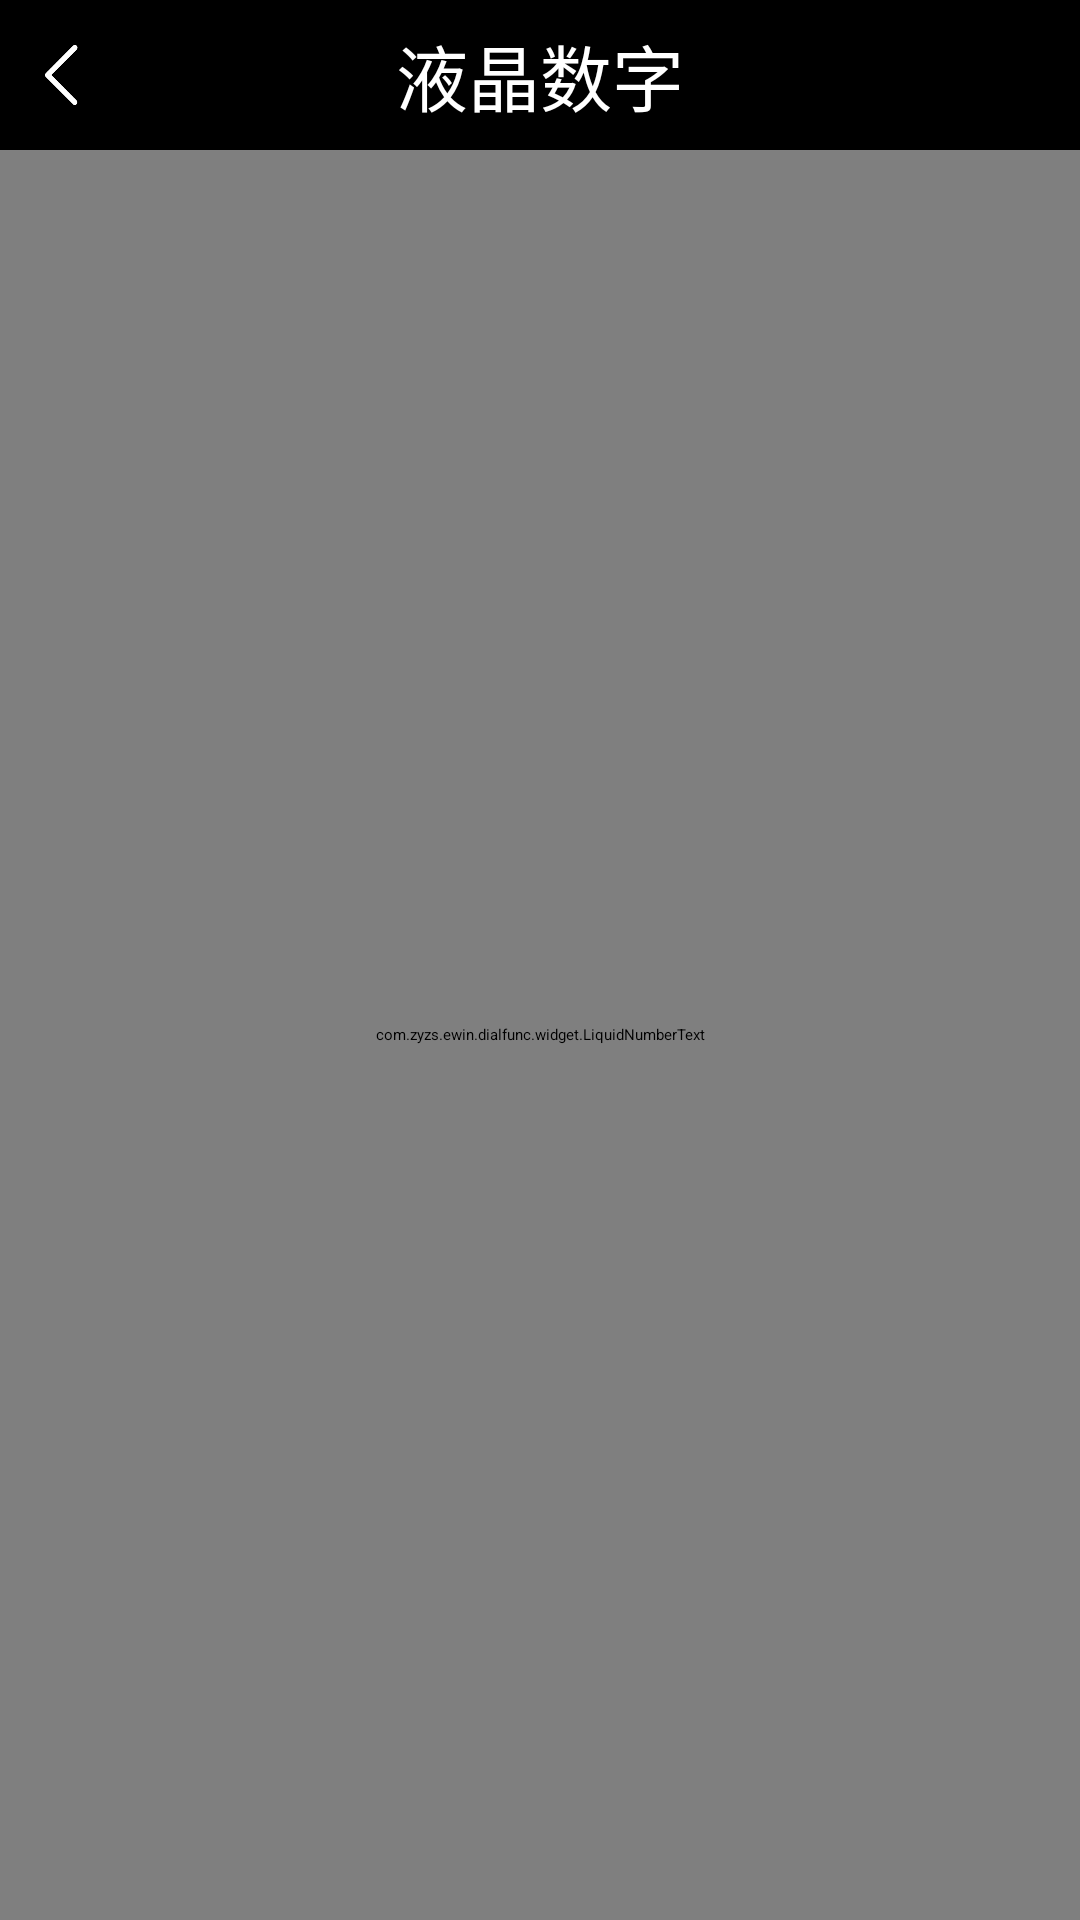

Icon bounding boxes for this 1080px x 1920px phone screenshot, format (x1, y1, x2, y2):
back: (45, 45, 78, 105)
